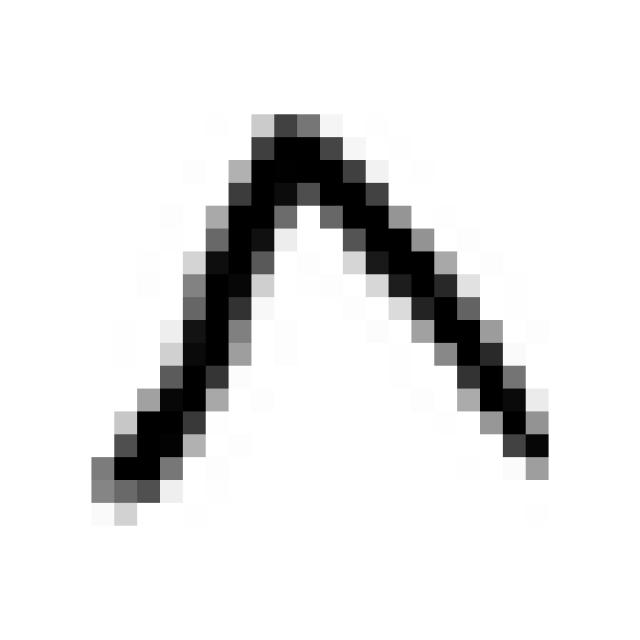8 -eight-: (71, 94, 577, 508)
